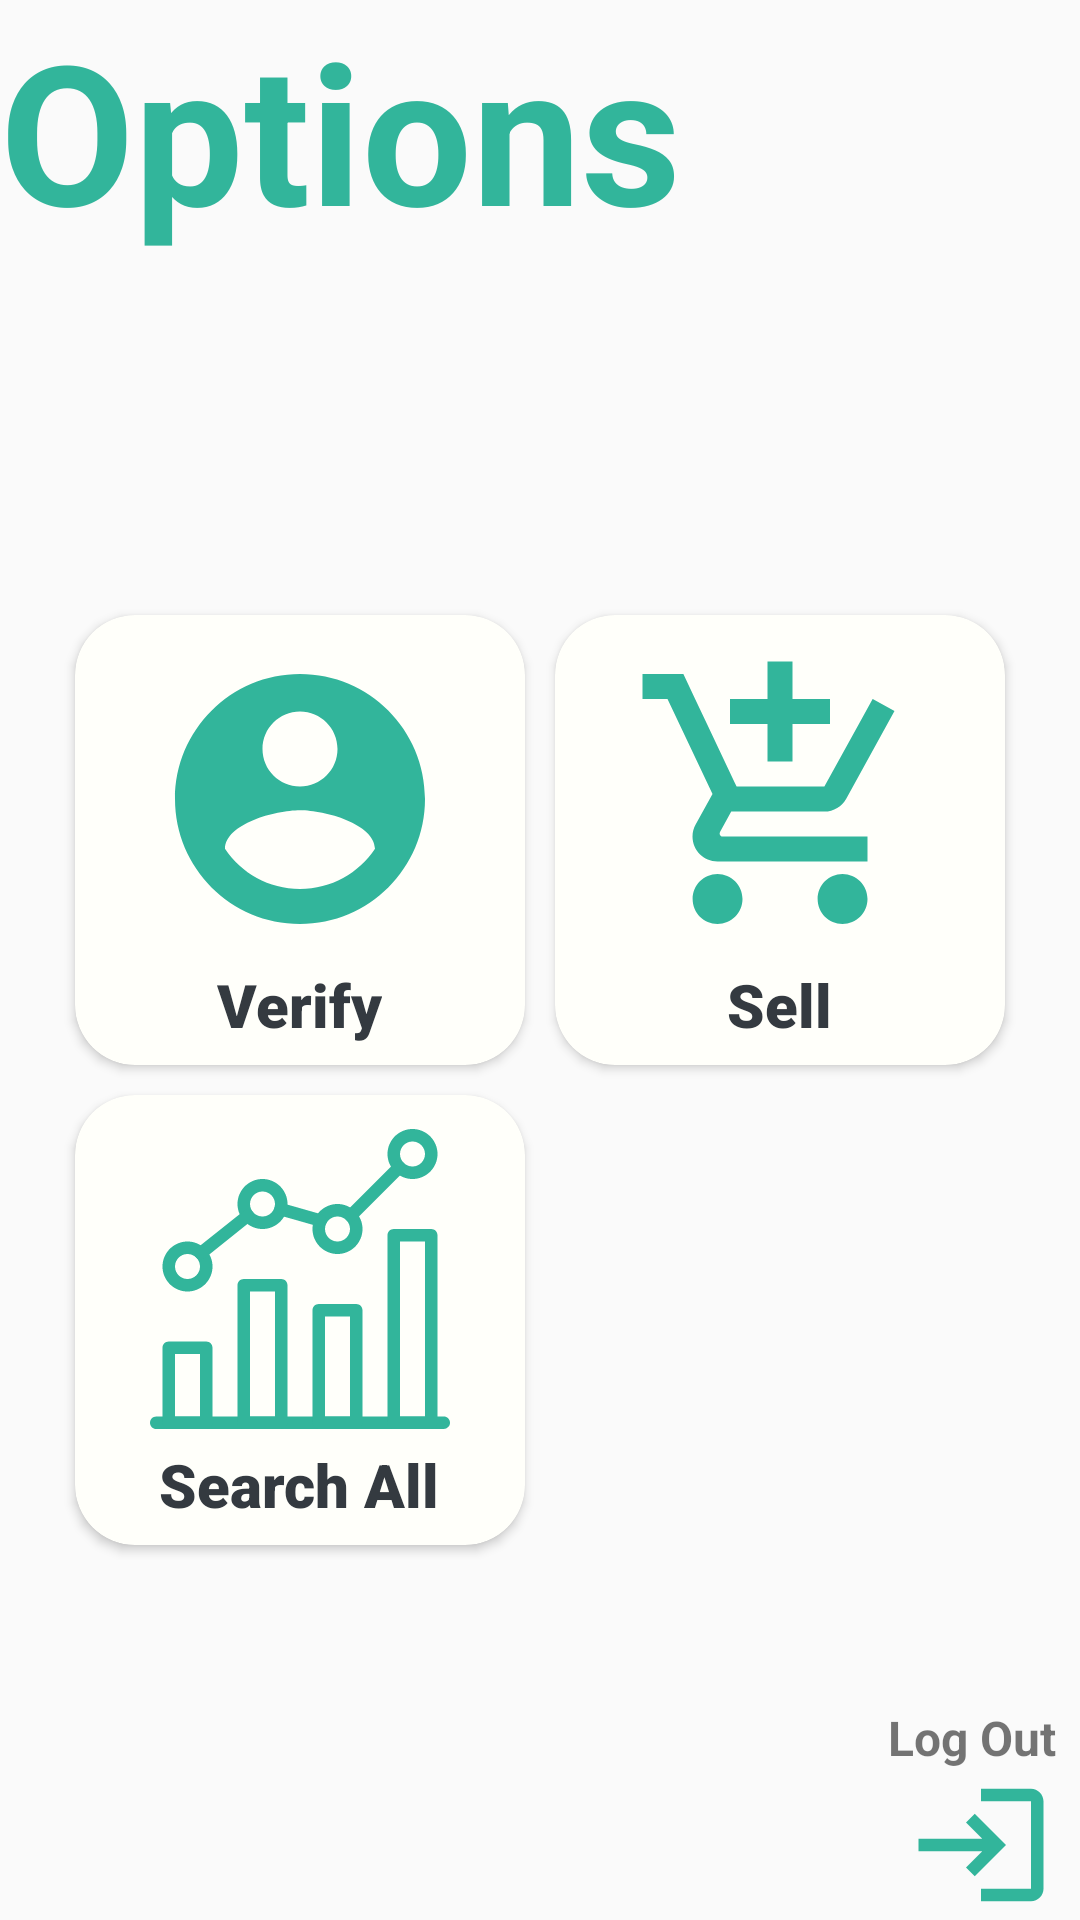

Named icons in this screenshot (1080 × 1920) and their centers, [x,y]:
account circle: [300,799]
add shopping cart: [768,792]
login: [981,1845]
